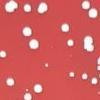white: (26, 37, 42, 53), (19, 23, 34, 39), (1, 3, 15, 15), (87, 6, 99, 20), (58, 22, 72, 34), (4, 75, 16, 89), (32, 82, 44, 95), (6, 0, 20, 11), (35, 5, 46, 18), (38, 0, 49, 13), (22, 2, 33, 14), (79, 0, 91, 11), (85, 43, 96, 54), (67, 69, 78, 80), (65, 37, 75, 49), (82, 35, 94, 45), (89, 75, 99, 87), (0, 48, 9, 61), (21, 91, 34, 100), (80, 72, 90, 82), (82, 40, 91, 51), (42, 60, 51, 70), (95, 55, 100, 64), (95, 63, 100, 71), (24, 87, 30, 93), (96, 89, 100, 96), (97, 72, 100, 79)
